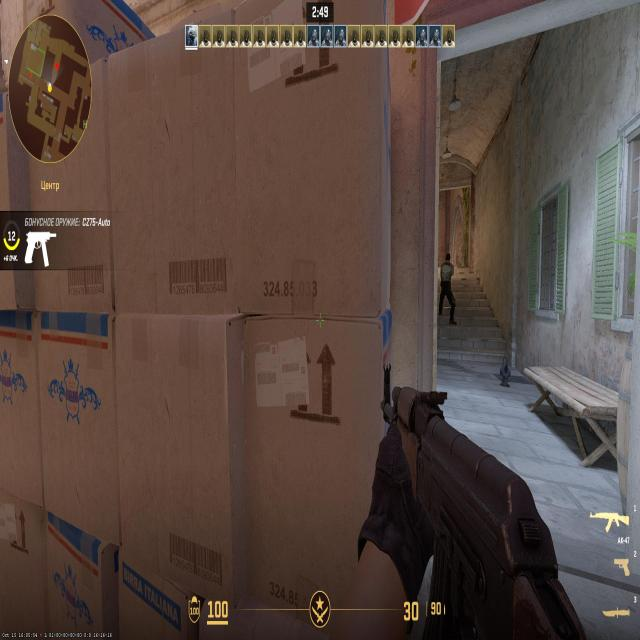T: (444, 252, 453, 312)
T_heat: (446, 255, 451, 262)
